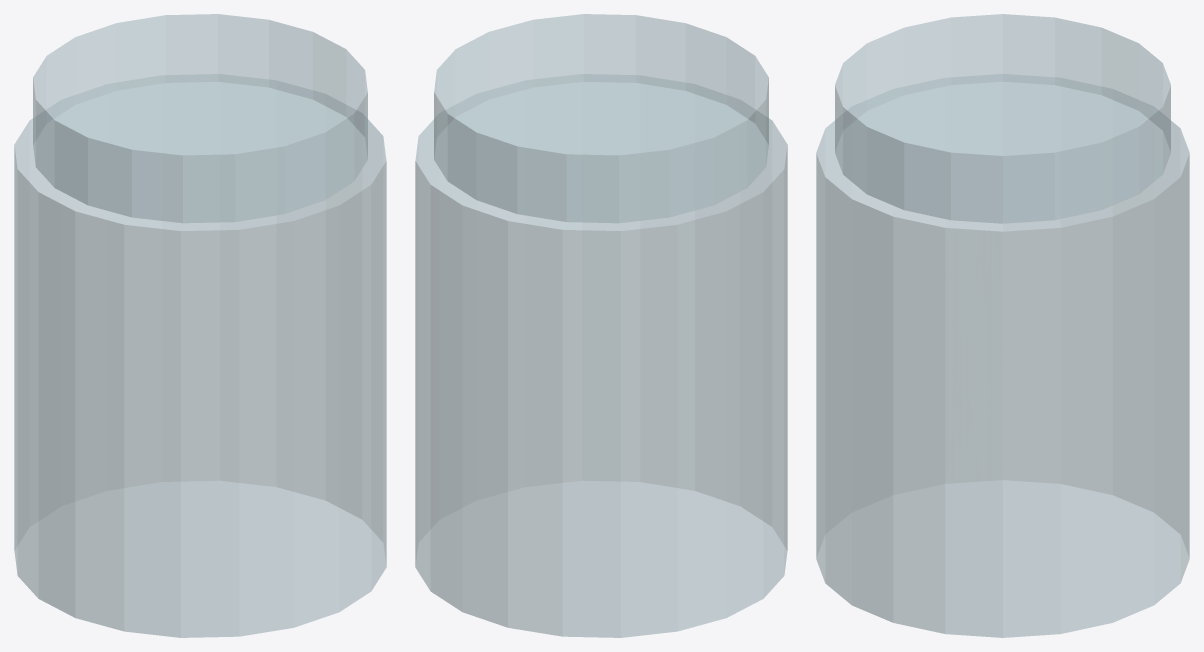
The model's file is g_honey_jar.glb.
3 renders of one model, left to right at view 1: azimuth 30°, elevation 25°; view 2: azimuth 150°, elevation 25°; view 3: azimuth 270°, elevation 25°, orthographic.
Visible parts, largest first — view 1: g_honey_jar; view 2: g_honey_jar; view 3: g_honey_jar.
Part boxes in pixels (x1=…): g_honey_jar: x1=14, y1=14, x2=386, y2=637; g_honey_jar: x1=415, y1=14, x2=787, y2=637; g_honey_jar: x1=816, y1=14, x2=1189, y2=637.
Size of the model in its own units: 0.1 by 0.14 by 0.1.
